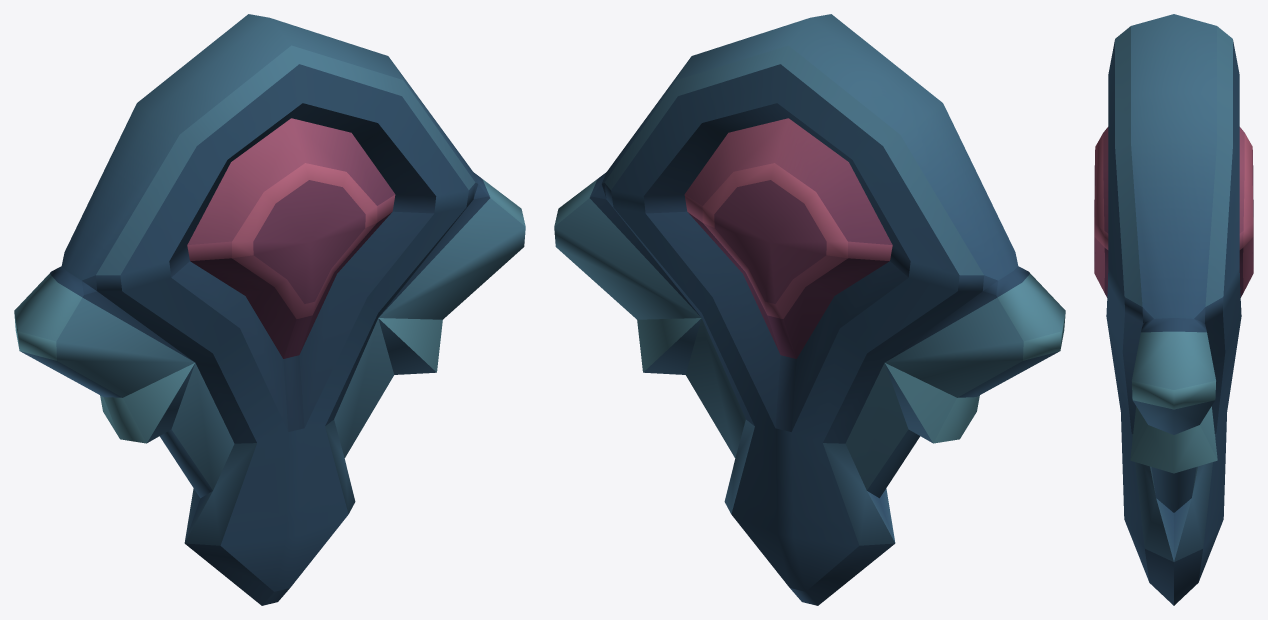
The model's file is ornament_5.fbx.
The picture shows the model from 3 angles, left to right: view 1: azimuth 30°, elevation 25°; view 2: azimuth 150°, elevation 25°; view 3: azimuth 270°, elevation 25°; orthographic projection.
Visible parts, largest first — view 1: ornament_5; view 2: ornament_5; view 3: ornament_5.
Part boxes in pixels (x1,y1,x2,y2): ornament_5: [14, 14, 525, 605]; ornament_5: [554, 14, 1065, 605]; ornament_5: [1094, 14, 1253, 605].
Size of the model in its own units: 209 by 232 by 57.01.
